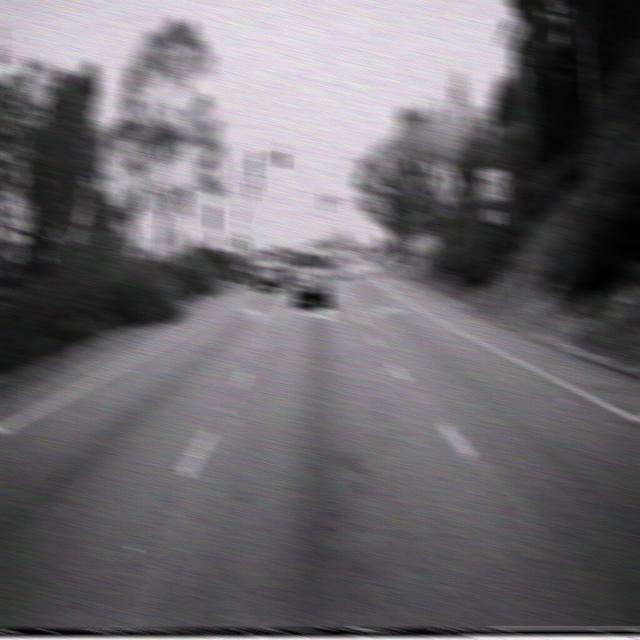pedestrianCrossing: (432, 158, 462, 206)
